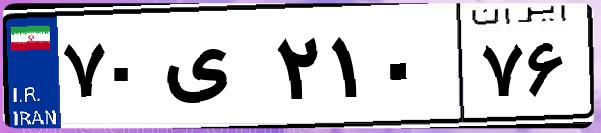0: (385, 28, 445, 110), (110, 28, 158, 98)
1: (330, 28, 385, 110)
2: (270, 28, 330, 110)
6: (525, 38, 570, 115)
7: (57, 26, 110, 100), (475, 38, 525, 113)
ی: (158, 20, 270, 120)
